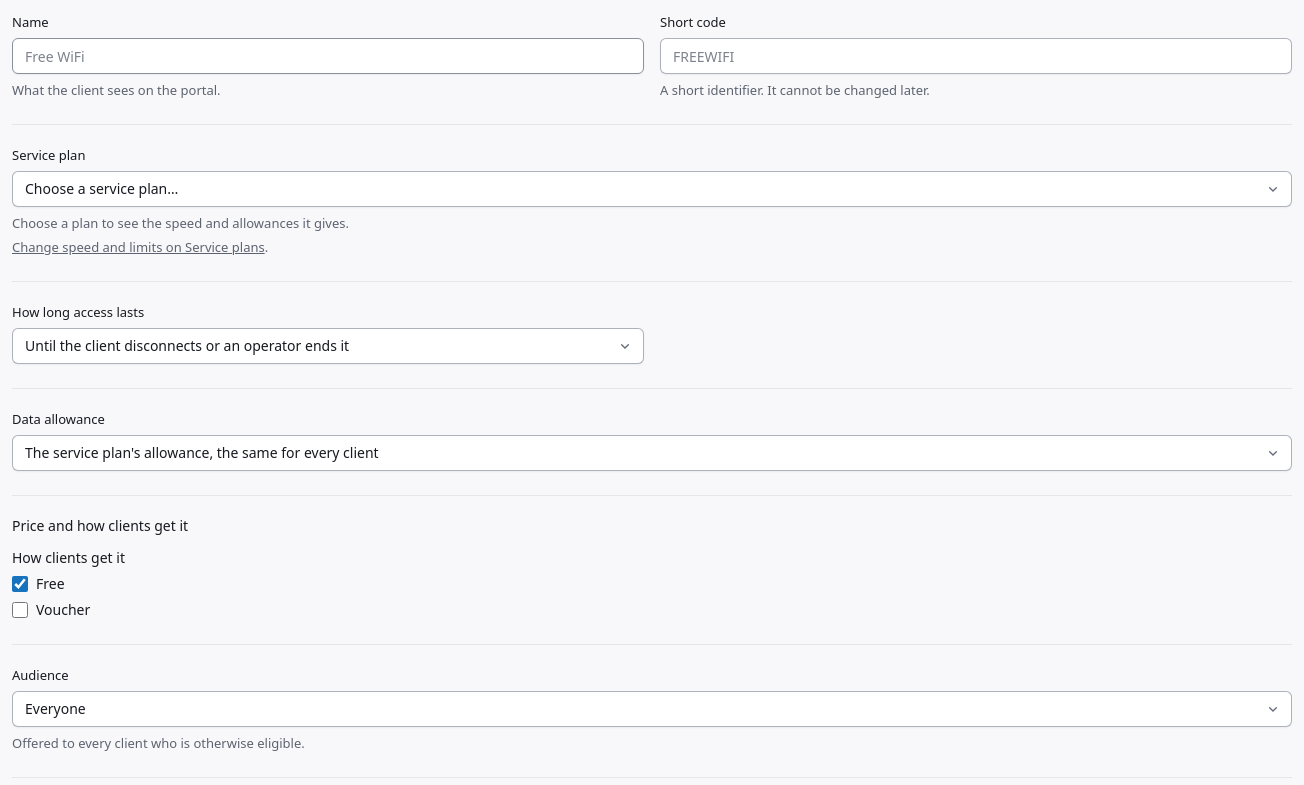
the data-allowance precedence notice › follows the allocation mode immediately, in both directions
Select "Five GB" in the dropdown with test id "service-plan" at (652,189), box [12, 171, 1292, 207]
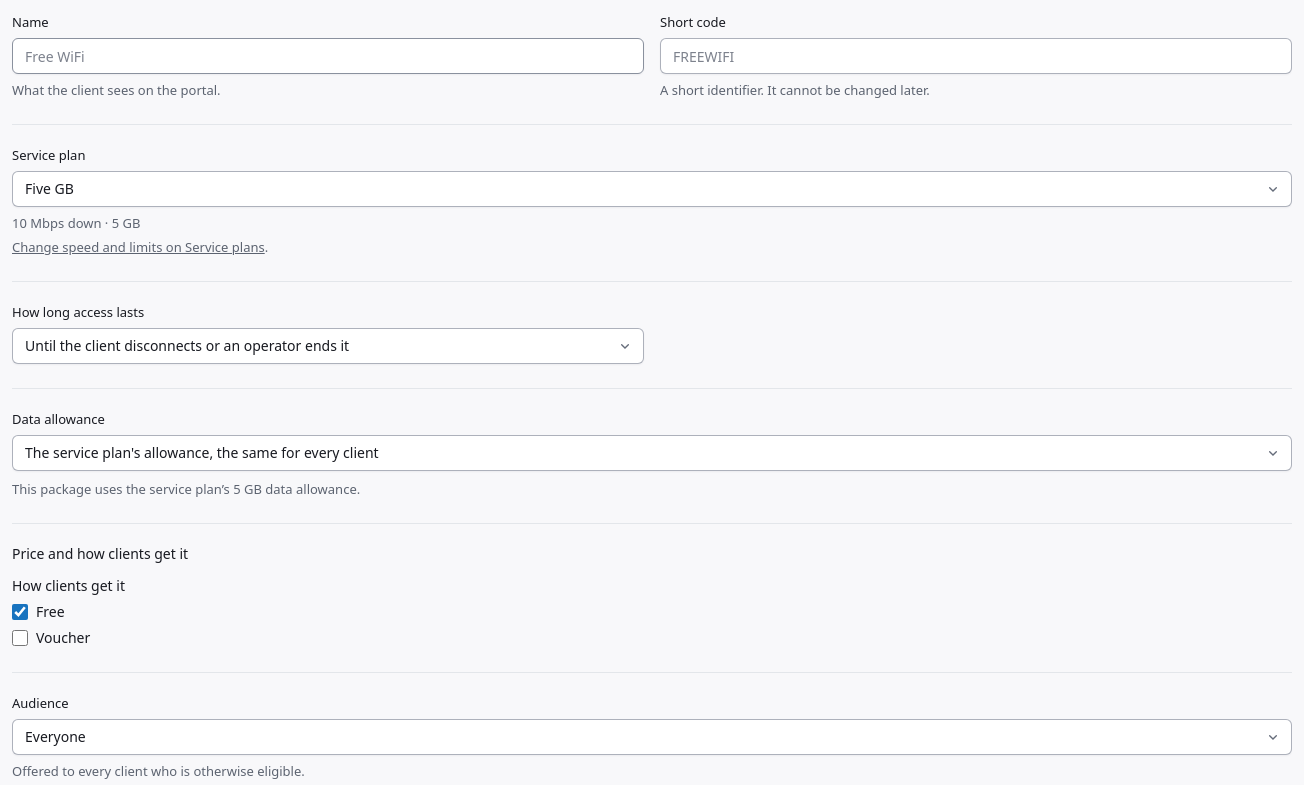
Select "An allowance per night of the stay" in the dropdown with test id "allocation-mode" at (652,453), box [12, 435, 1292, 471]
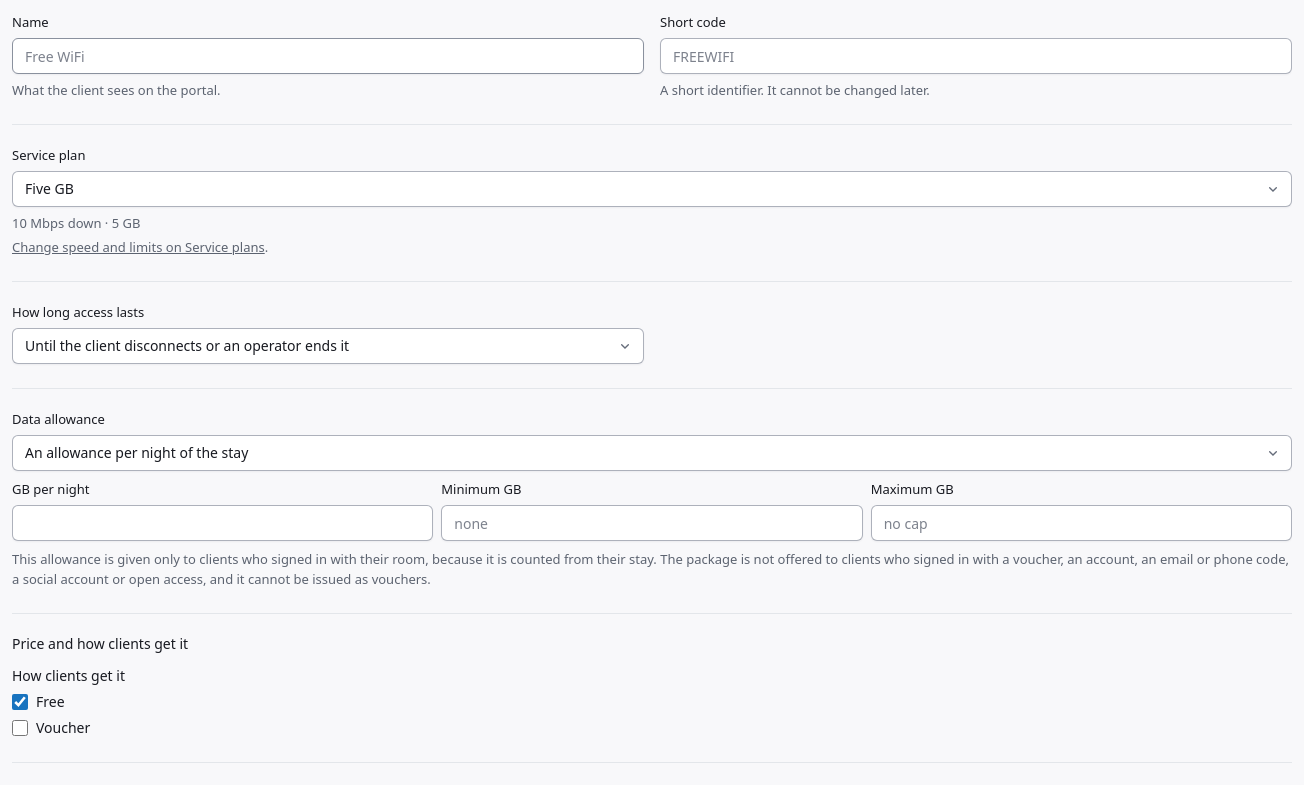
Type "1" into the number field with test id "gb-per-night".
click(223, 523); type("1")  # box [12, 505, 433, 541]
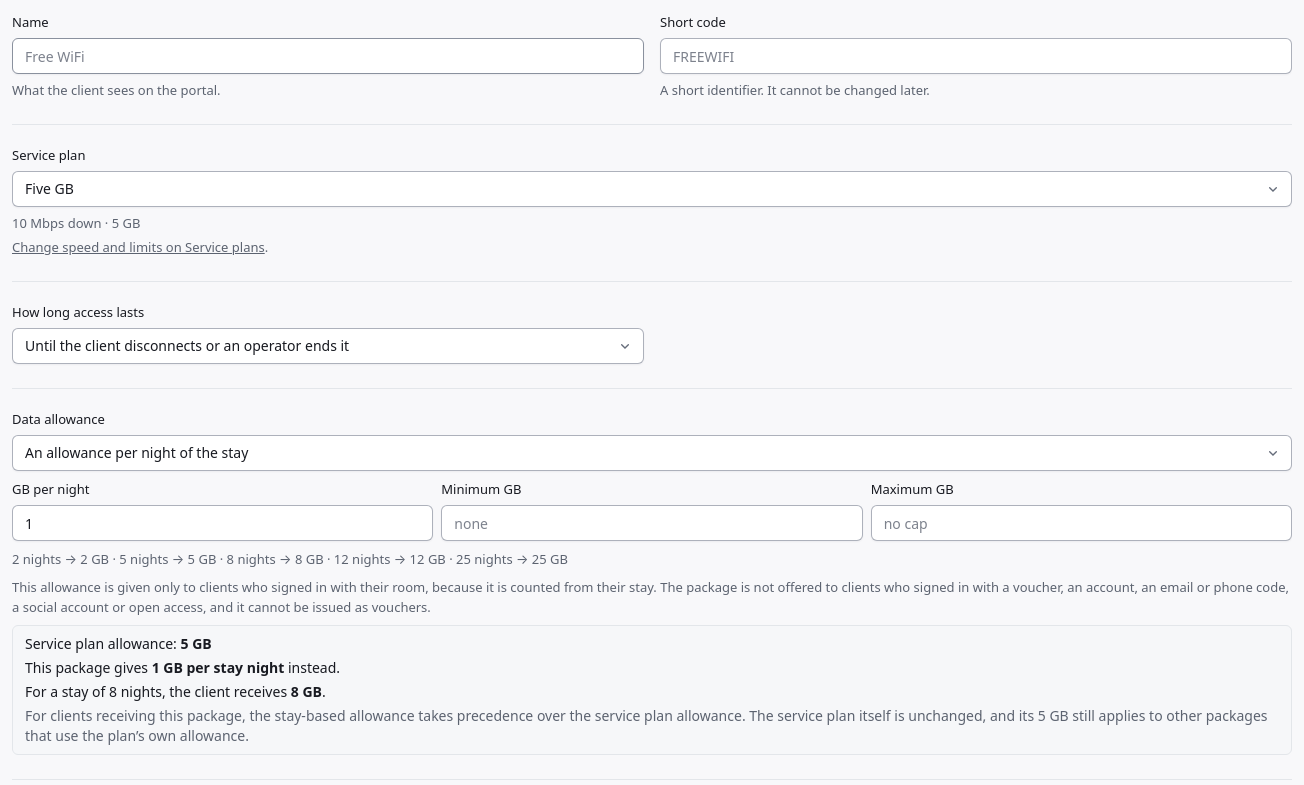
Now the element with test id "allowance-notice" shows "takes precedence", box [25, 706, 1038, 725]
Select "The service plan's allowance, the same for every client" in the dropdown with test id "allocation-mode" at (652,453), box [12, 435, 1292, 471]
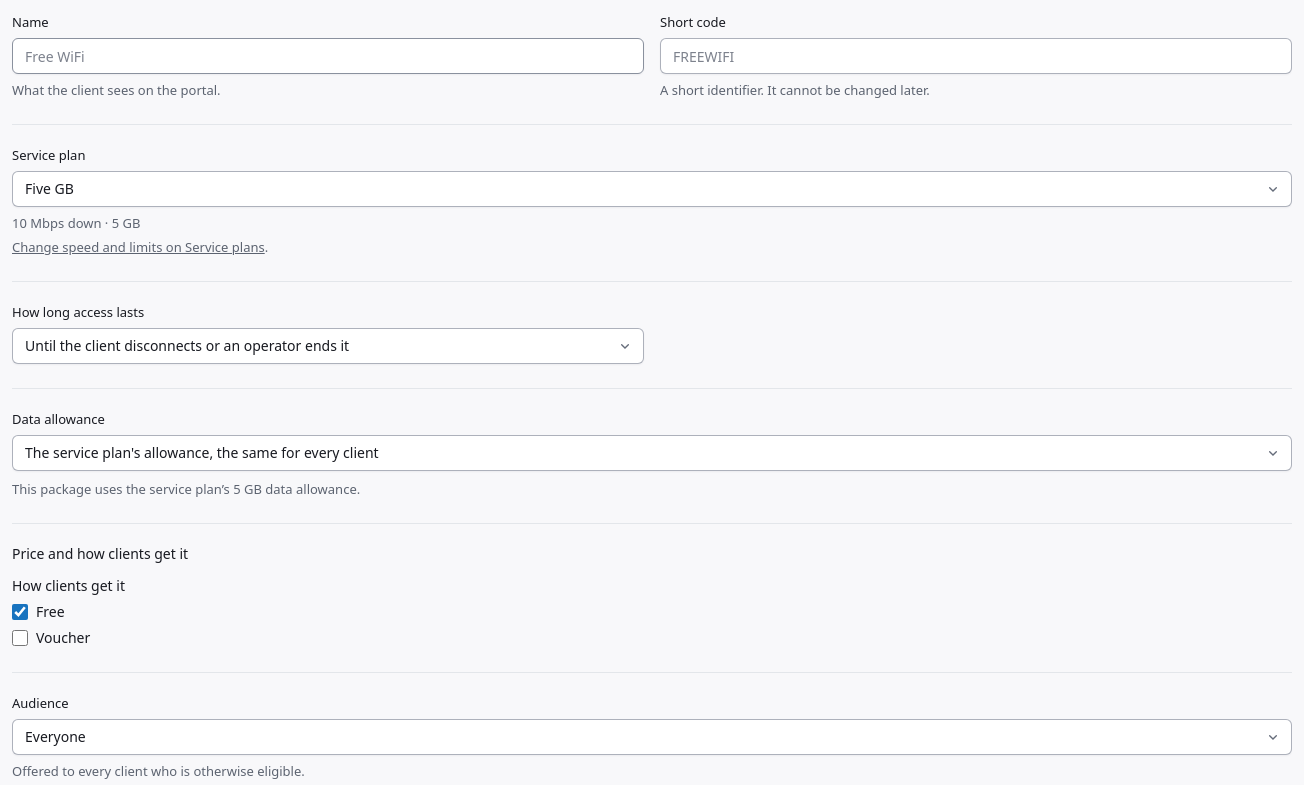
Now the element with test id "allowance-notice" shows "uses the service plan", box [12, 480, 233, 498]
Now the text with test id "allowance-notice" no longer shows "precedence"
Select "An allowance per night of the stay" in the dropdown with test id "allocation-mode" at (652,453), box [12, 435, 1292, 471]
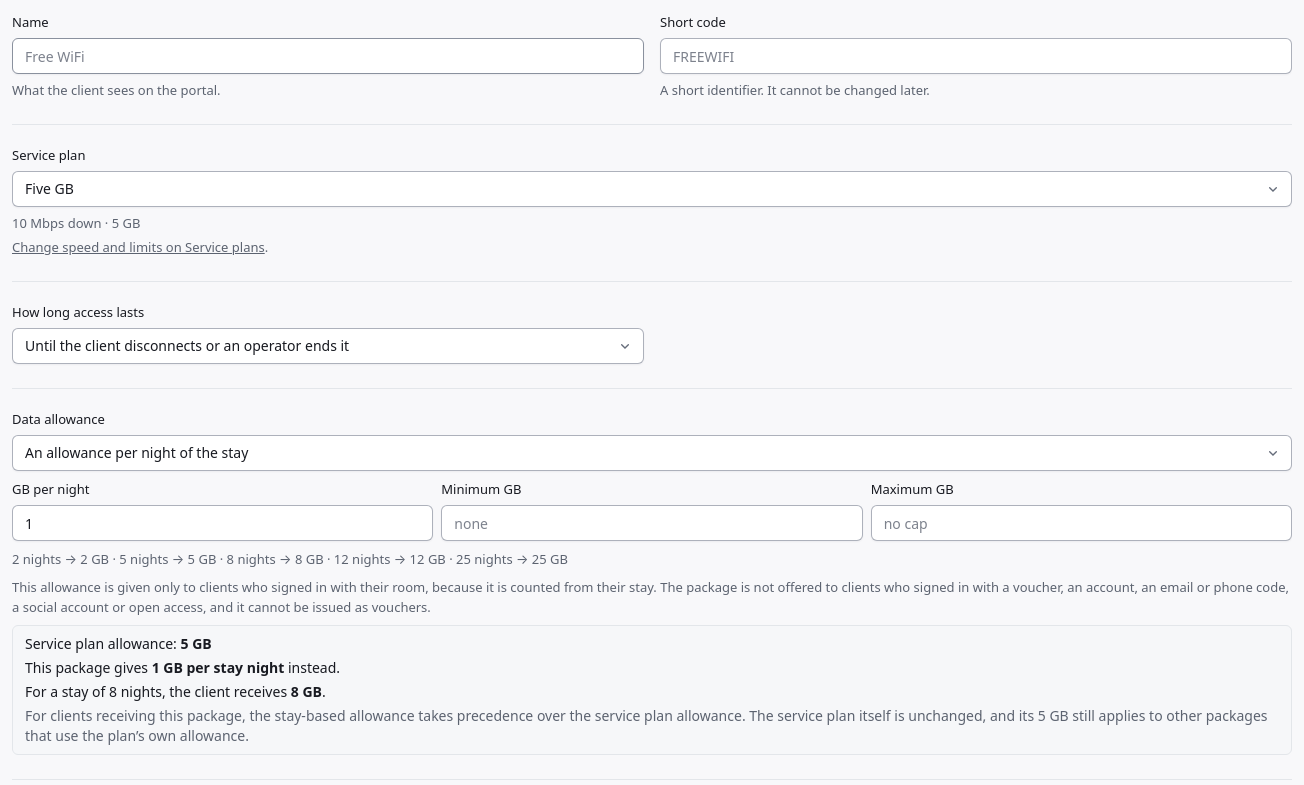
Now the element with test id "allowance-notice" shows "takes precedence", box [25, 706, 1038, 725]
